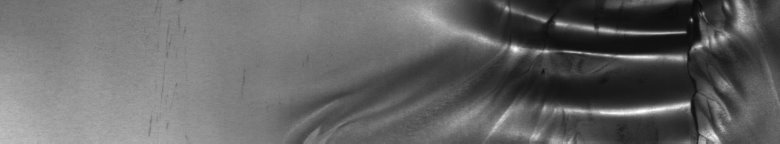ke: (453, 4, 772, 136)
